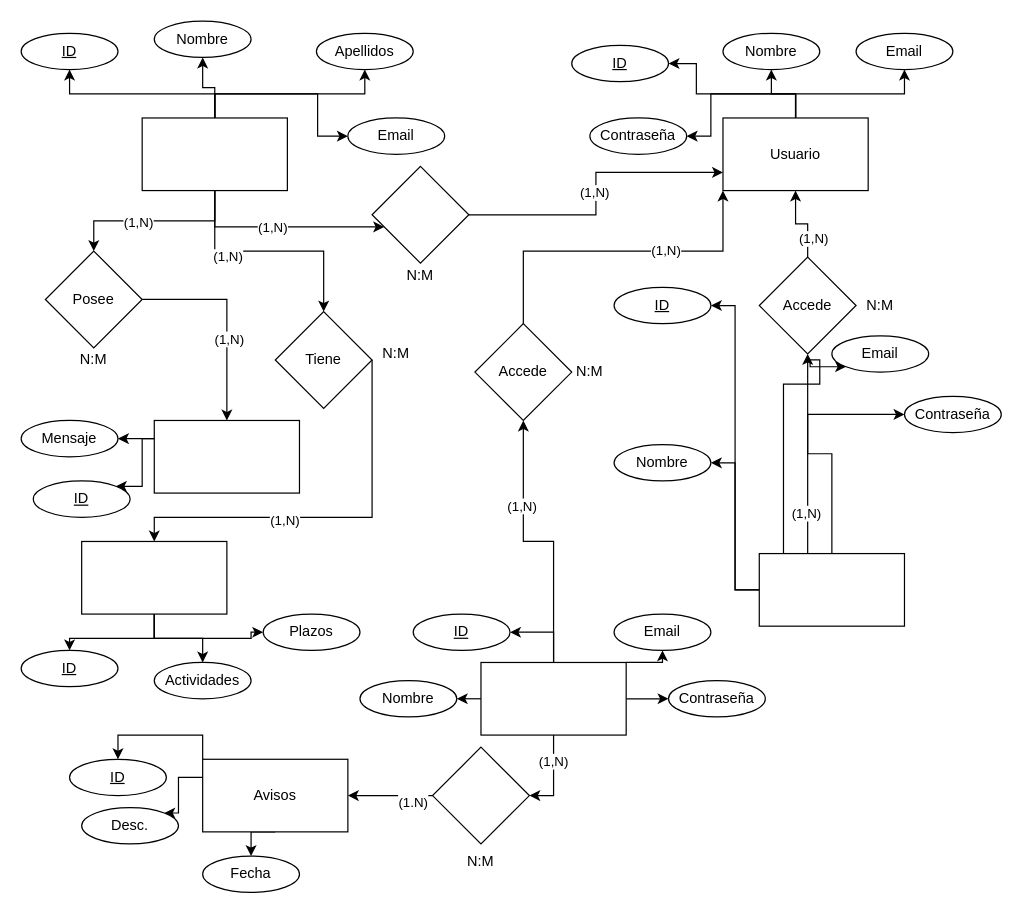
The diagram is 1022 pixels wide and 914 high, and some of its shapes have lost their labels. The centre of each missing label's shape, as x and y in pixels:
Cliente: point 214,154
Compras: point 153,577
Contacto: point 226,456
Crea: point 480,795
Desarrolador: point 553,698
Ingresa: point 420,214
Trabajador: point 831,589
